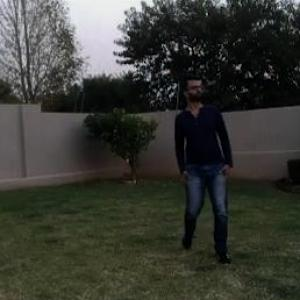follow: (168, 64, 238, 266)
